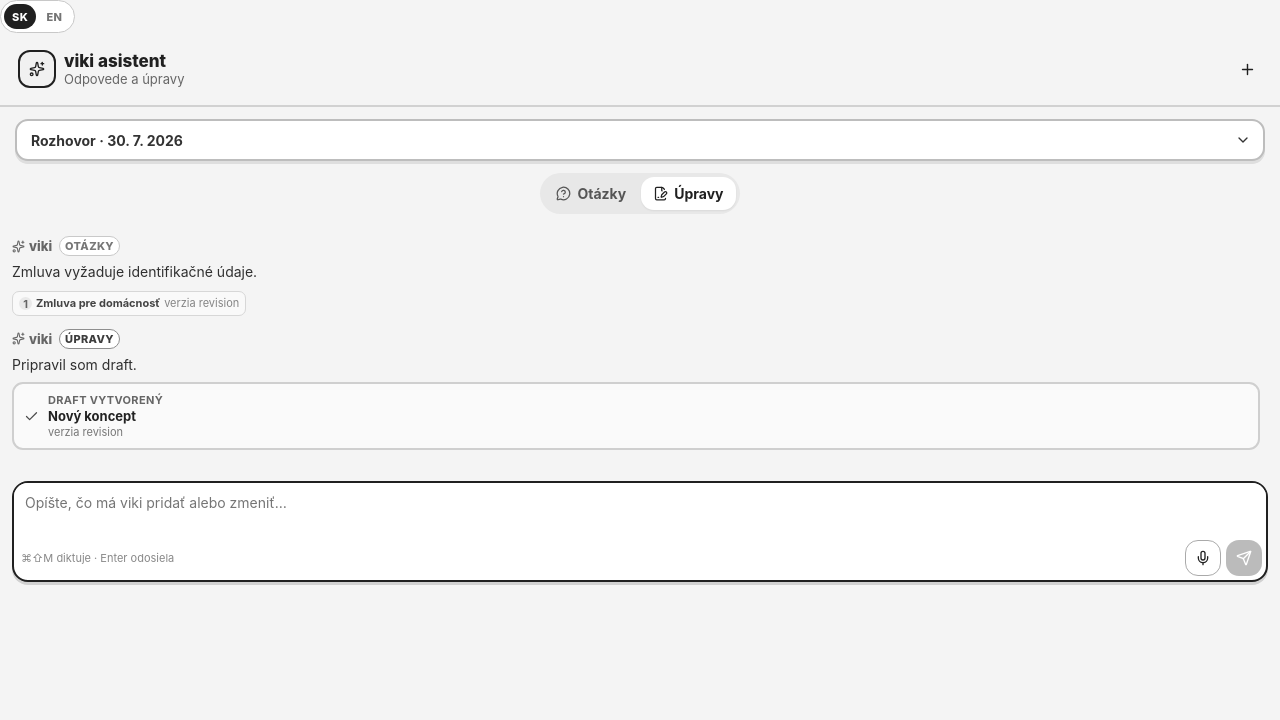
AssistantPanel › formats untitled conversation dates in English
Check: the text "Zmluva vyžaduje identifikačné údaje." is shown, box 12,263 -> 257,280
Click the switch named "Jazyk".
click(37, 16)  # box 0,0 -> 74,33
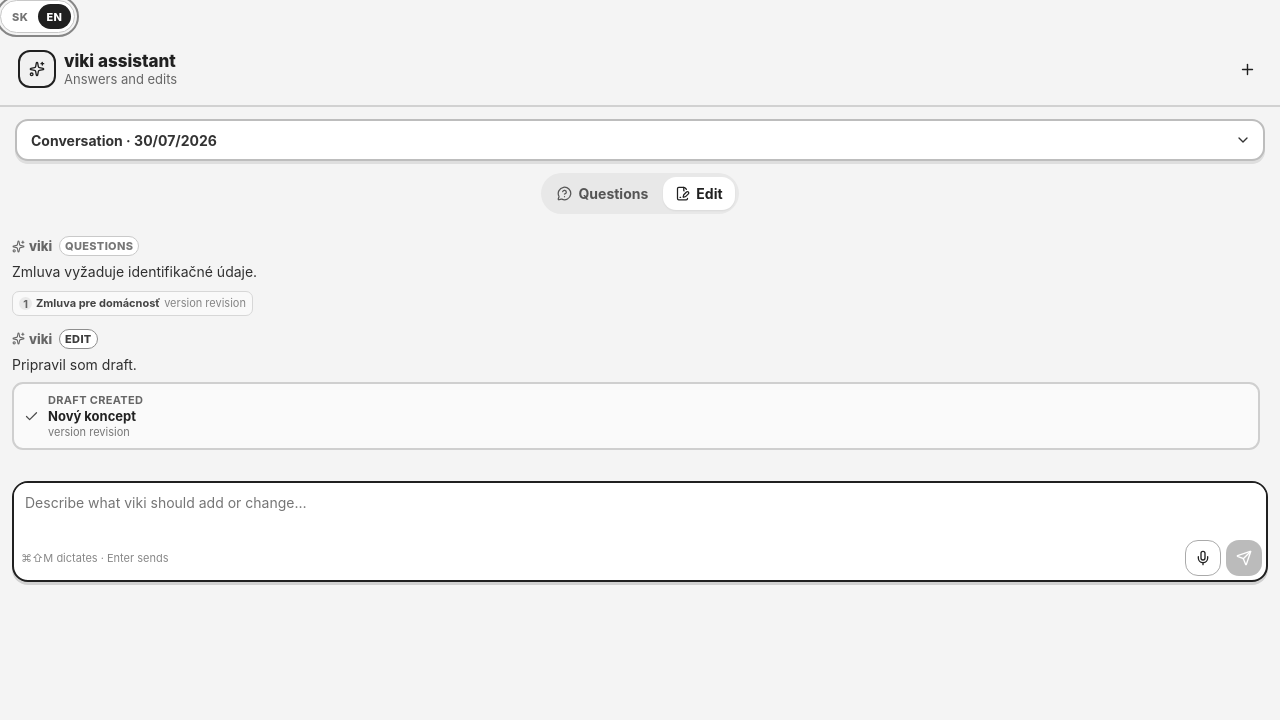
Check: the button with aria-label "Conversation: Conversation · 30/07/2026" is shown, box 15,119 -> 1265,161
